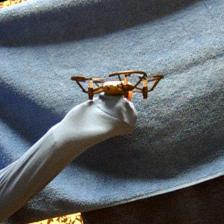drone: (70, 68, 164, 102)
